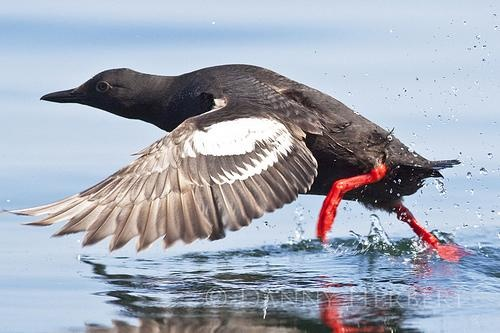bird: (7, 65, 479, 271)
